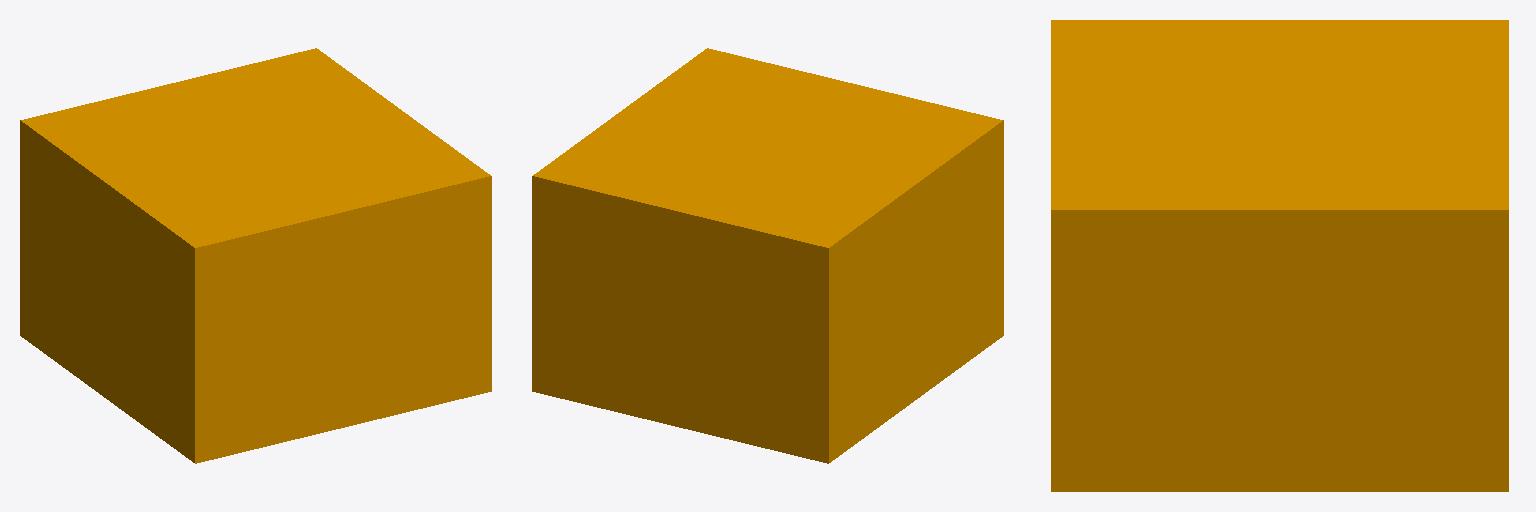
robot.urdf — engine_main_simple.off:
<?xml version="1.0"?>
<robot name="engine_main_simple.off">
	<link name="engine_main_simple.off">
		<inertial>
			<!--origin xyz="0 0 0" rpy="0 0 0" /-->
			<mass value="0.5" />
			<!--inertia ixx="0.000360" ixy="0" ixz="0" iyy="0.0000615" iyz="0" izz="0.00036" /-->
		</inertial>
    		<visual>
	      		<!--origin rpy="0 0 0" xyz="0 0 0"/-->
      			<geometry>
        			<mesh filename="engine_main_simple.off.obj"/>
      			</geometry>
         	</visual>
    		<collision>
      			<!--origin rpy="0 0 0" xyz="0 0 0"/-->
      			<geometry>
        			<mesh filename="engine_main_simple.off.obj"/>
      			</geometry>
    		</collision>
	</link>
</robot>

--- What the picture shows (computed from the rendered views, not written in the file) ---
Views: 3 orthographic renders of the robot side by side, from view 1: azimuth 30°, elevation 25°; view 2: azimuth 150°, elevation 25°; view 3: azimuth 270°, elevation 25°.
Model engine_main_simple.off with 1 links and 0 joints (none), rooted at engine_main_simple.off, posed all joints at 0.
Visible links, largest first — view 1: engine_main_simple.off; view 2: engine_main_simple.off; view 3: engine_main_simple.off.
Boxes of the visible links, left/top/right/bottom form: engine_main_simple.off: left=20, top=48, right=491, bottom=463; engine_main_simple.off: left=532, top=48, right=1003, bottom=463; engine_main_simple.off: left=1051, top=20, right=1508, bottom=491.
Size in the robot's own frame: 46 by 47 by 32 metres.
1 mesh visuals loaded from 1 distinct referenced files (1 OBJ).